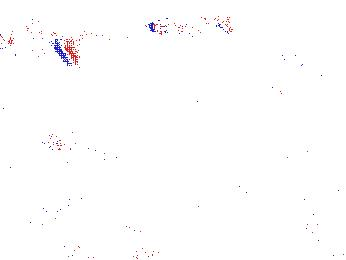X-ray fish: (113, 234, 156, 260)
glassfish: (38, 129, 145, 187)
red belly glassfish: (278, 42, 312, 63)
redtail glassfish: (1, 15, 90, 73), (148, 13, 233, 37), (268, 70, 312, 95)
